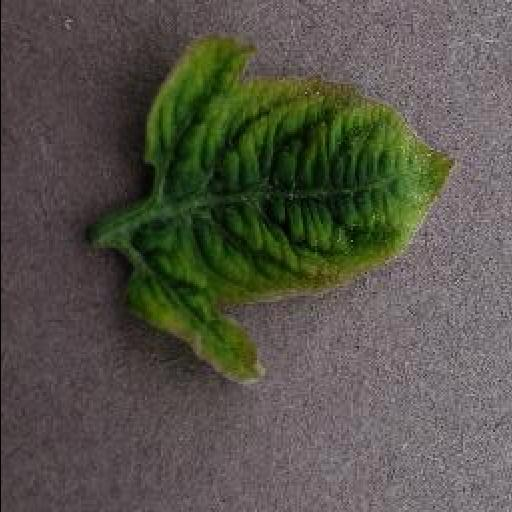disease_tomato: (116, 30, 458, 386)
